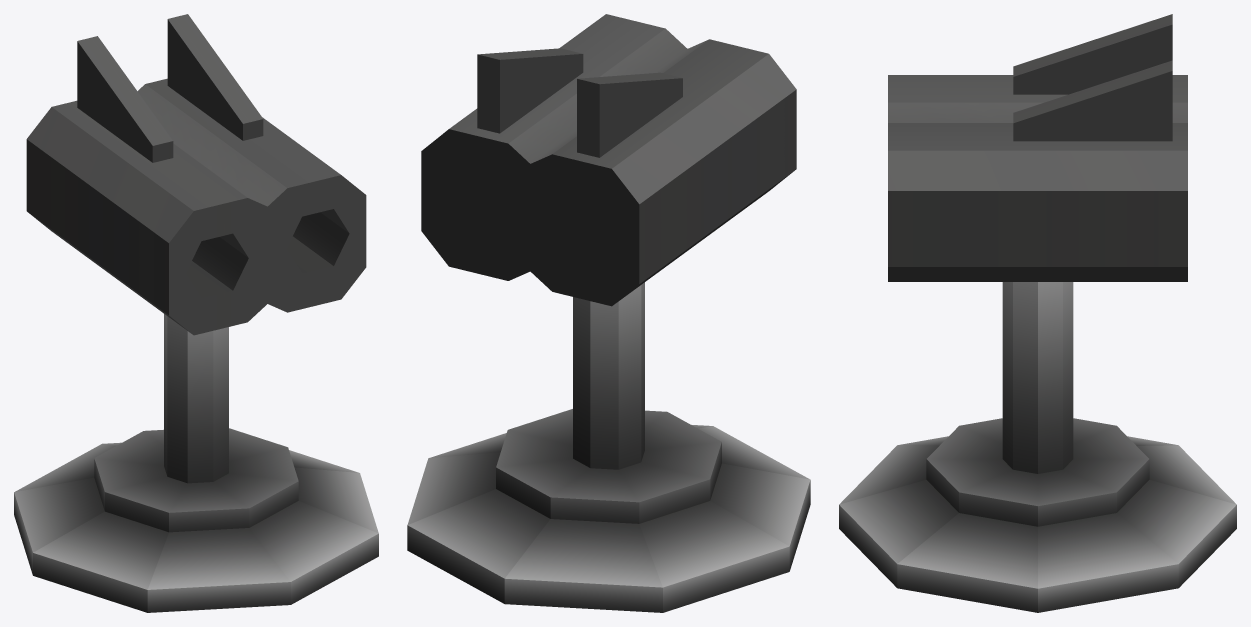
File: turret.fbx
3 views of the same model, side by side, from view 1: azimuth 30°, elevation 25°; view 2: azimuth 150°, elevation 25°; view 3: azimuth 270°, elevation 25° (orthographic). The views are drawn at different scales.
Visible parts, largest first — view 1: Sung, De; view 2: Sung, De; view 3: De, Sung.
Boxes of the visible parts, left/top/right/bottom form: Sung: left=26, top=14, right=366, bottom=335; De: left=14, top=314, right=378, bottom=612; Sung: left=421, top=14, right=796, bottom=306; De: left=407, top=282, right=810, bottom=612; De: left=839, top=282, right=1236, bottom=612; Sung: left=888, top=14, right=1187, bottom=281.
Size of the model in its own units: 1.66 by 2.23 by 1.66.
